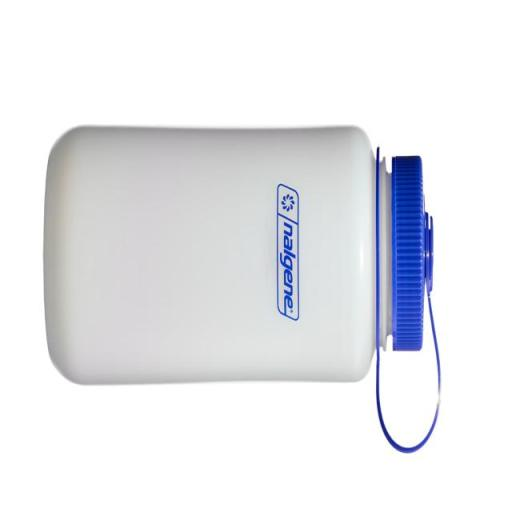bottle: (37, 106, 449, 464)
